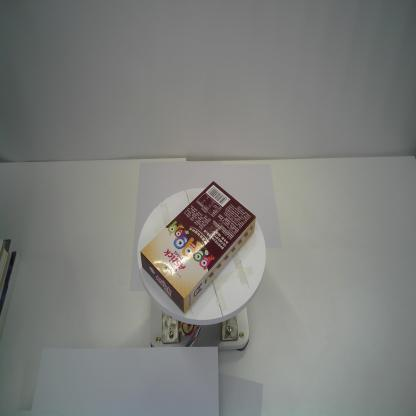Dessert: (140, 179, 256, 315)
